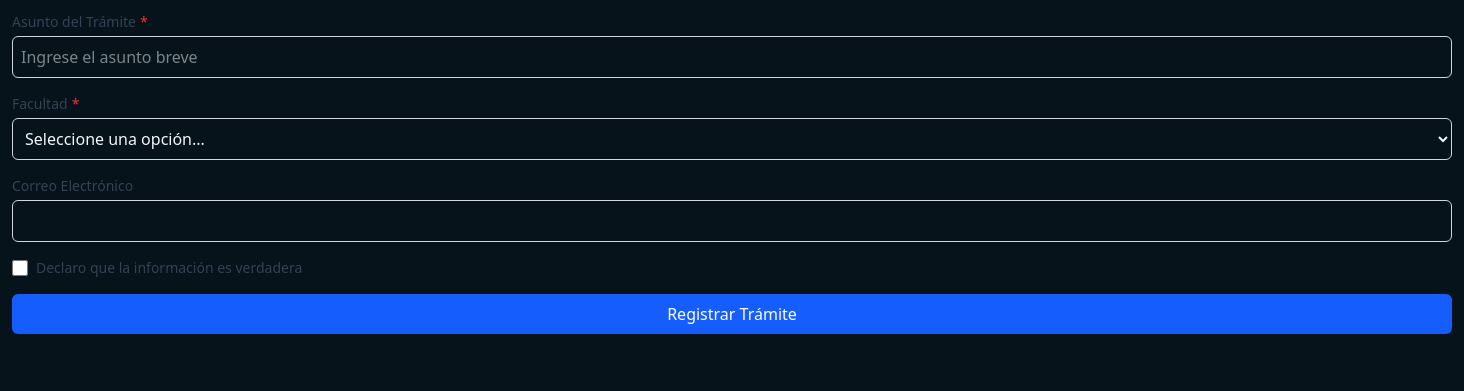
Test: DynamicSchemaForm Component › 4. Valida campos requeridos vacíos al enviar el formulario y muestra errores en español
The width and height of the screenshot is (1464, 391).
Step 1. Click the button "Registrar Trámite" → [732, 314], box [12,294,1452,334]
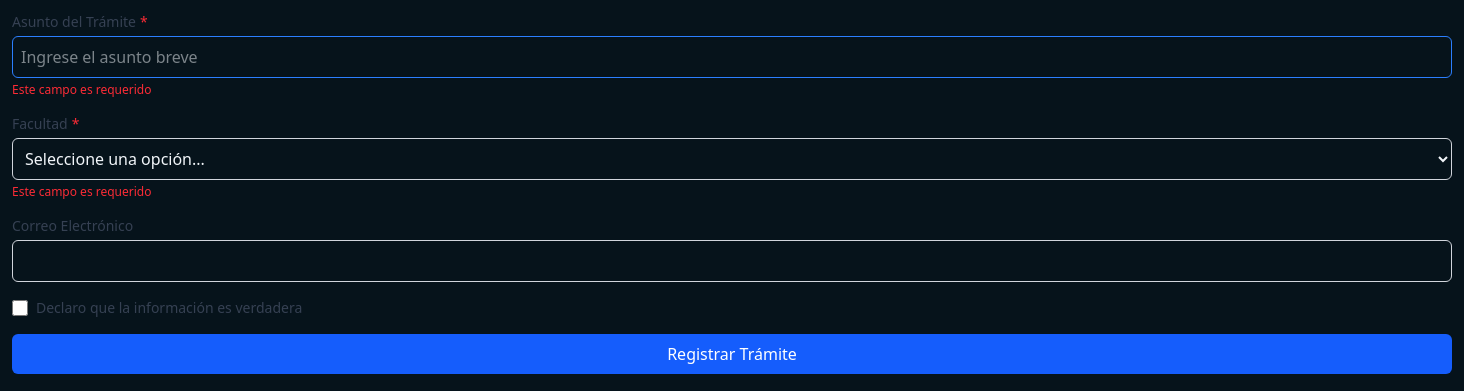
Result: the text "Este campo es requerido" below "Asunto del Trámite" is shown at [12,81,152,98]
